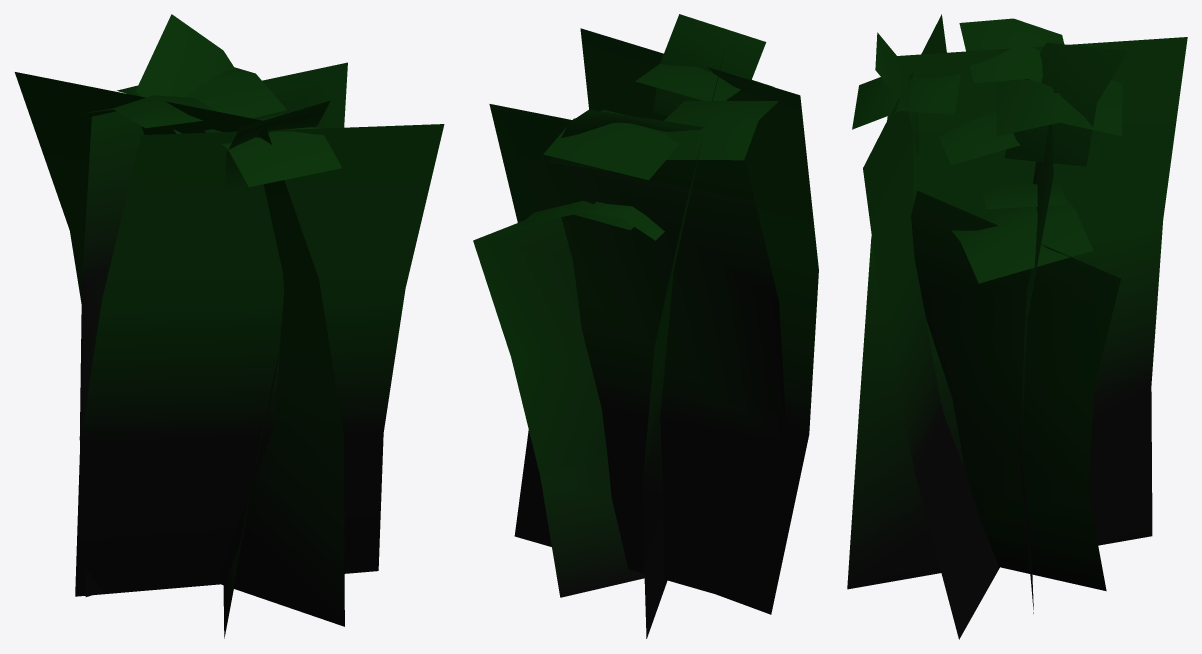
The model's file is FlowersC_afsTREE_xlp.fbx.
3 renders of one model, left to right at view 1: azimuth 30°, elevation 25°; view 2: azimuth 150°, elevation 25°; view 3: azimuth 270°, elevation 25°, orthographic. The views are drawn at different scales.
Visible parts, largest first — view 1: FlowersC_Leaf_xt02_xw05; view 2: FlowersC_Leaf_xt02_xw05; view 3: FlowersC_Leaf_xt02_xw05.
Part boxes in pixels (x1,y1,x2,y2): FlowersC_Leaf_xt02_xw05: (14, 14, 444, 638); FlowersC_Leaf_xt02_xw05: (473, 14, 818, 638); FlowersC_Leaf_xt02_xw05: (847, 14, 1187, 639).
Size of the model in its own units: 0.3374 by 0.5662 by 0.3306.
